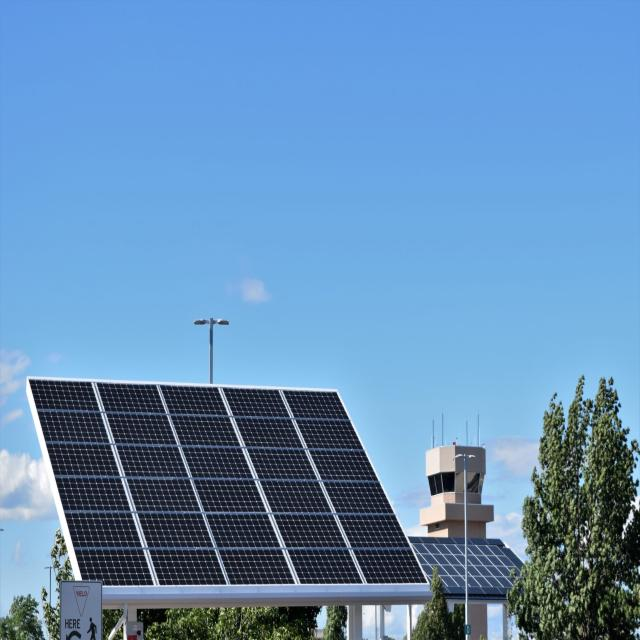clean-solar-panel: (26, 377, 429, 608)
